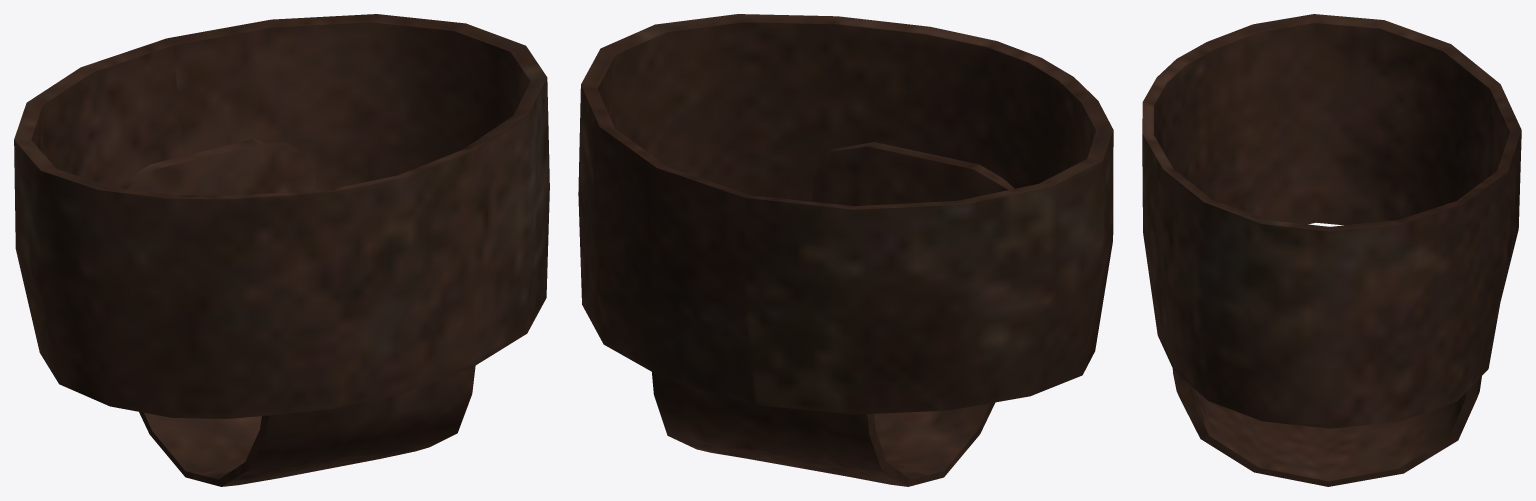
The model's file is wm_isengard_1h_sword_a02_pommel.fbx.
3 views of the same model, side by side, from view 1: azimuth 30°, elevation 25°; view 2: azimuth 150°, elevation 25°; view 3: azimuth 270°, elevation 25° (orthographic). The views are drawn at different scales.
Visible parts, largest first — view 1: wm_isengard_1h_sword_a02_pommel; view 2: wm_isengard_1h_sword_a02_pommel; view 3: wm_isengard_1h_sword_a02_pommel.
Part boxes in pixels (box(x1,y1,x2,y2)): wm_isengard_1h_sword_a02_pommel: box(14, 14, 549, 486); wm_isengard_1h_sword_a02_pommel: box(578, 14, 1113, 486); wm_isengard_1h_sword_a02_pommel: box(1142, 14, 1521, 486).
Size of the model in its own units: 0.055 by 0.0407 by 0.0377.
1 material, 1 textured.
